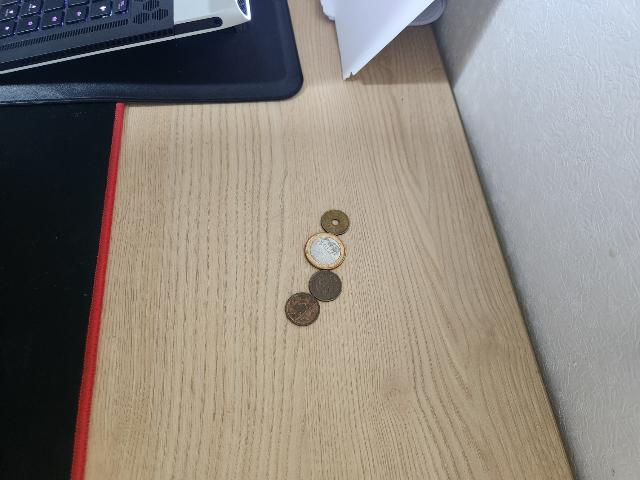coin: (304, 232, 346, 272), (286, 292, 322, 326), (309, 269, 343, 303), (321, 208, 349, 236)
